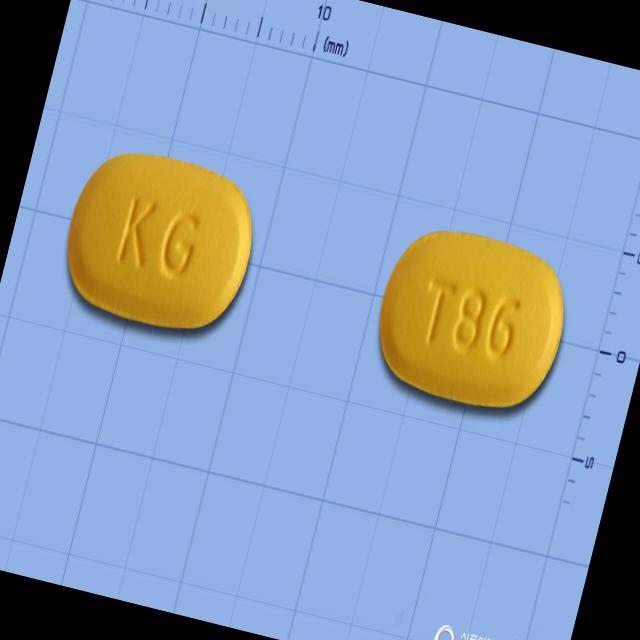Clarin: (360, 210, 584, 430), (46, 134, 272, 352)
